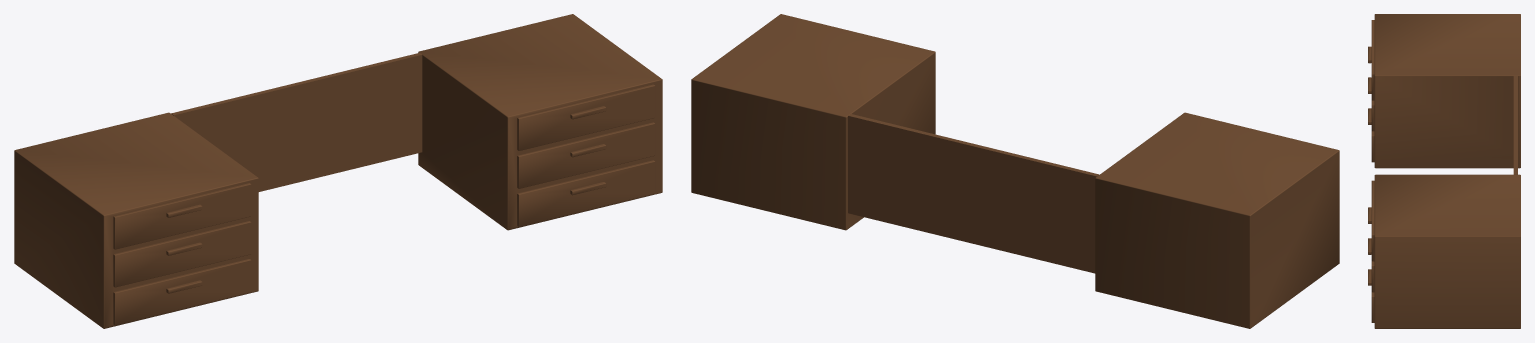
Rendered from InterviewDeskBody.fbx.
The picture shows the model from 3 angles, left to right: view 1: azimuth 30°, elevation 25°; view 2: azimuth 150°, elevation 25°; view 3: azimuth 270°, elevation 25°; orthographic projection. The views are drawn at different scales.
Parts seen in each view (by area): view 1: InterviewDeskBody; view 2: InterviewDeskBody; view 3: InterviewDeskBody.
Boxes of the visible parts, x1,y1,x2,y2 form: InterviewDeskBody: (14,14,662,328); InterviewDeskBody: (691,14,1339,328); InterviewDeskBody: (1368,14,1520,328).
Size of the model in its own units: 0.36 by 0.07 by 0.1045.
